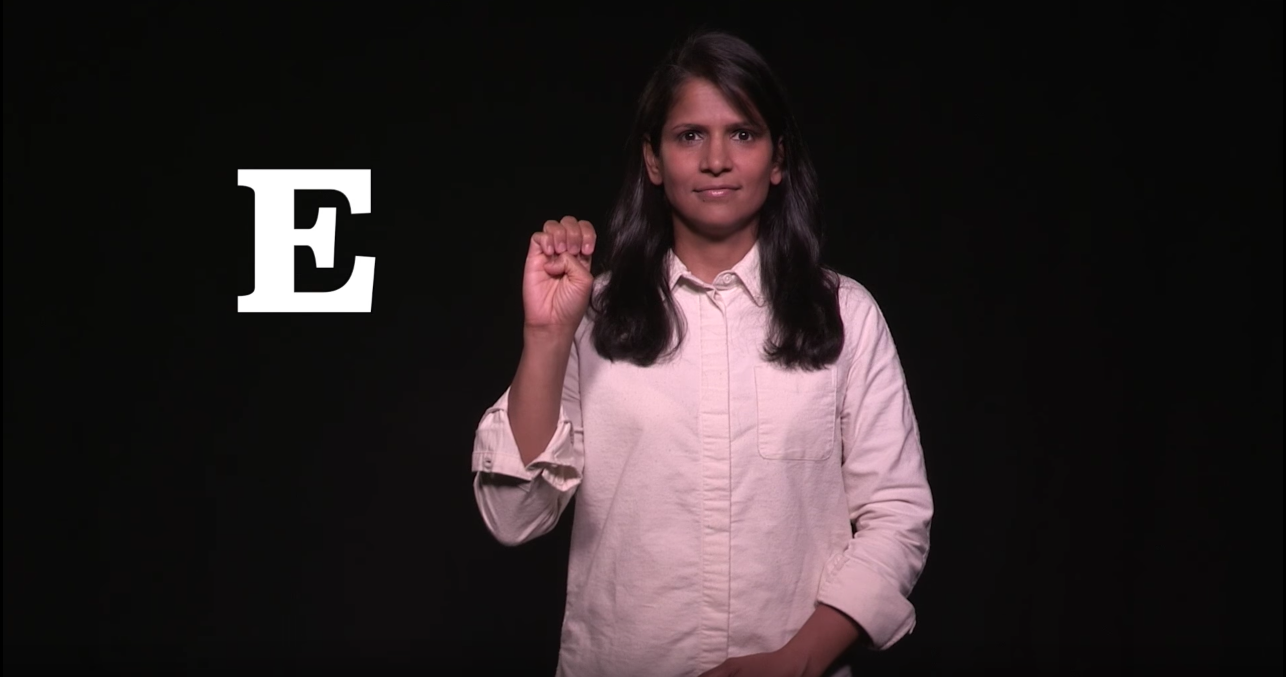e: (504, 206, 617, 350)
